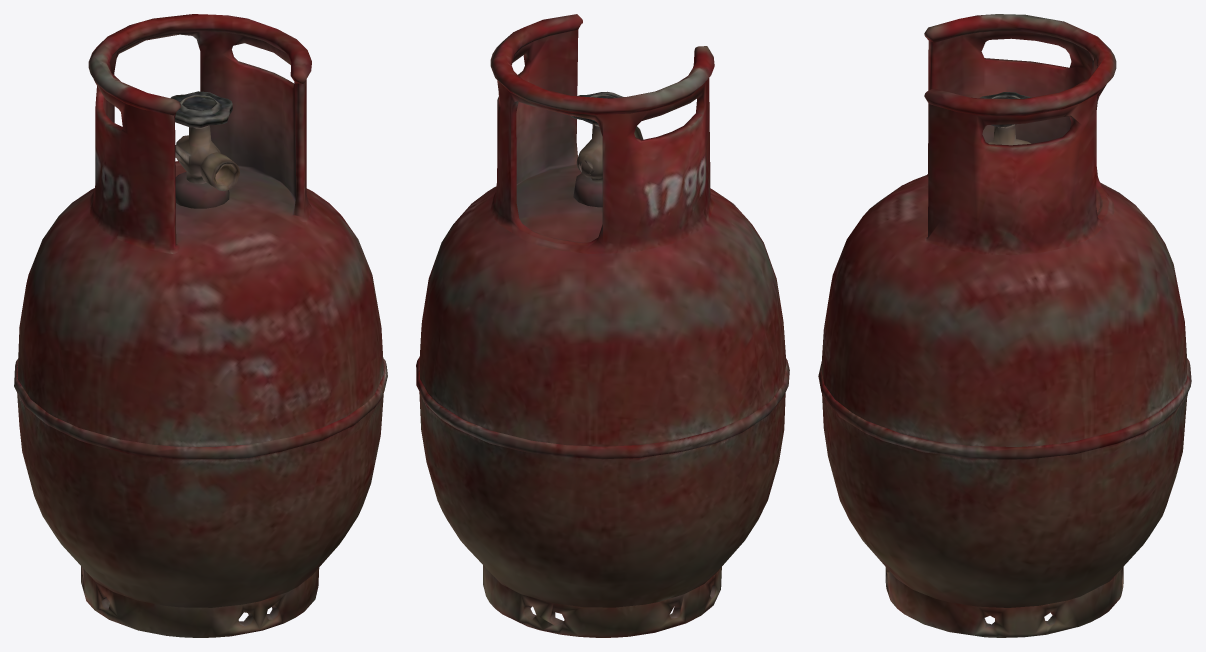
The model's file is small_lpg_tank.glb.
The picture shows the model from 3 angles, left to right: view 1: azimuth 30°, elevation 25°; view 2: azimuth 150°, elevation 25°; view 3: azimuth 270°, elevation 25°; orthographic projection.
Parts seen in each view (by area): view 1: small_lpg_tank; view 2: small_lpg_tank; view 3: small_lpg_tank.
Boxes of the visible parts, x1,y1,x2,y2 form: small_lpg_tank: (14,14,387,637); small_lpg_tank: (416,14,789,637); small_lpg_tank: (818,14,1191,637).
Bounding box in the file's own units: 0.4087 × 0.642 × 0.4092.
Materials: 1 (1 with a texture image).
